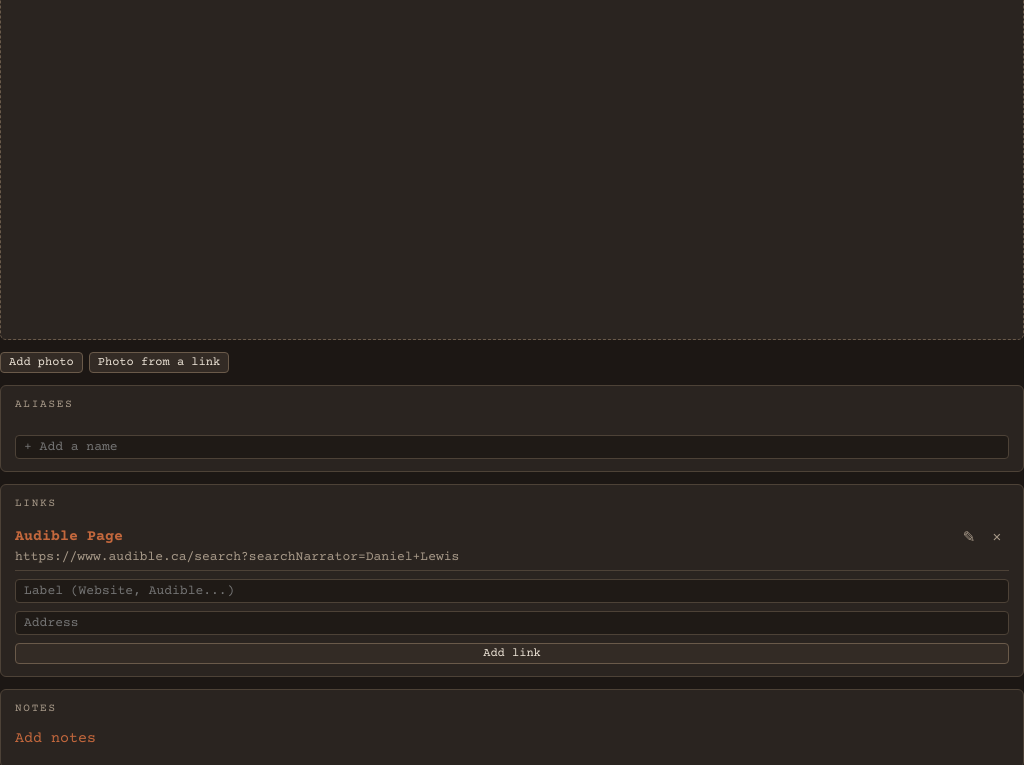
Test: links on author and narrator pages › shows why a save failed and stays open
(page scrolled)
Step 1. Click the button named "Edit Audible Page" → point(969, 536), box [957,524,981,548]
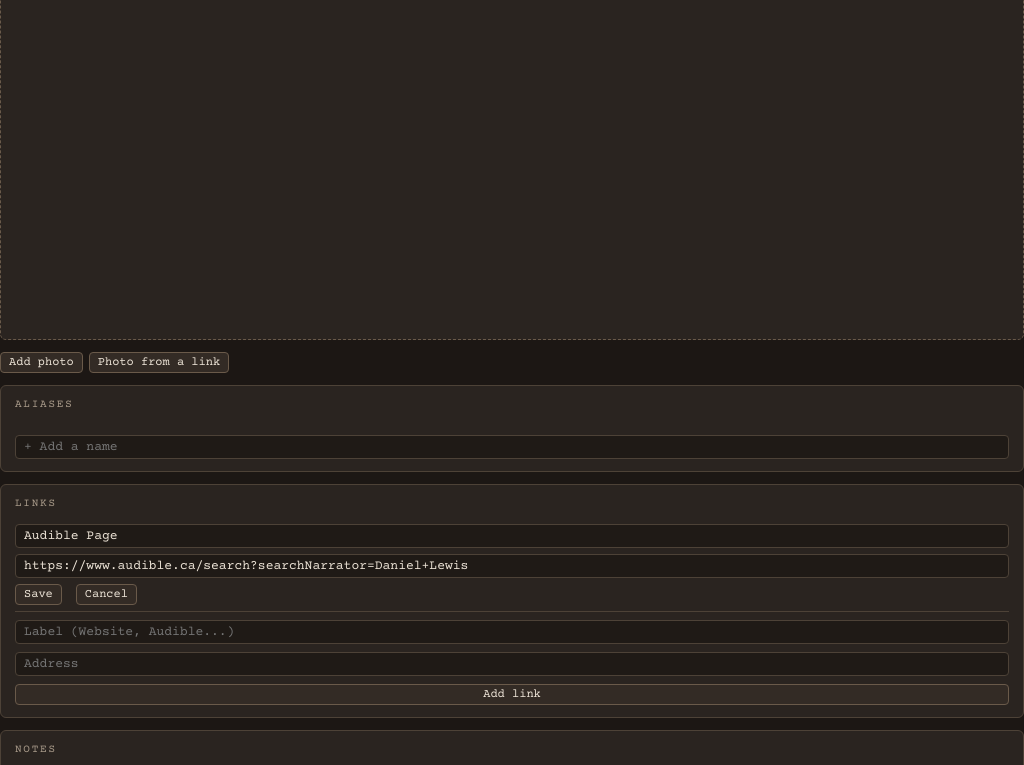
Step 2. Click the button "Save" → point(38, 594), box [15,584,62,605]
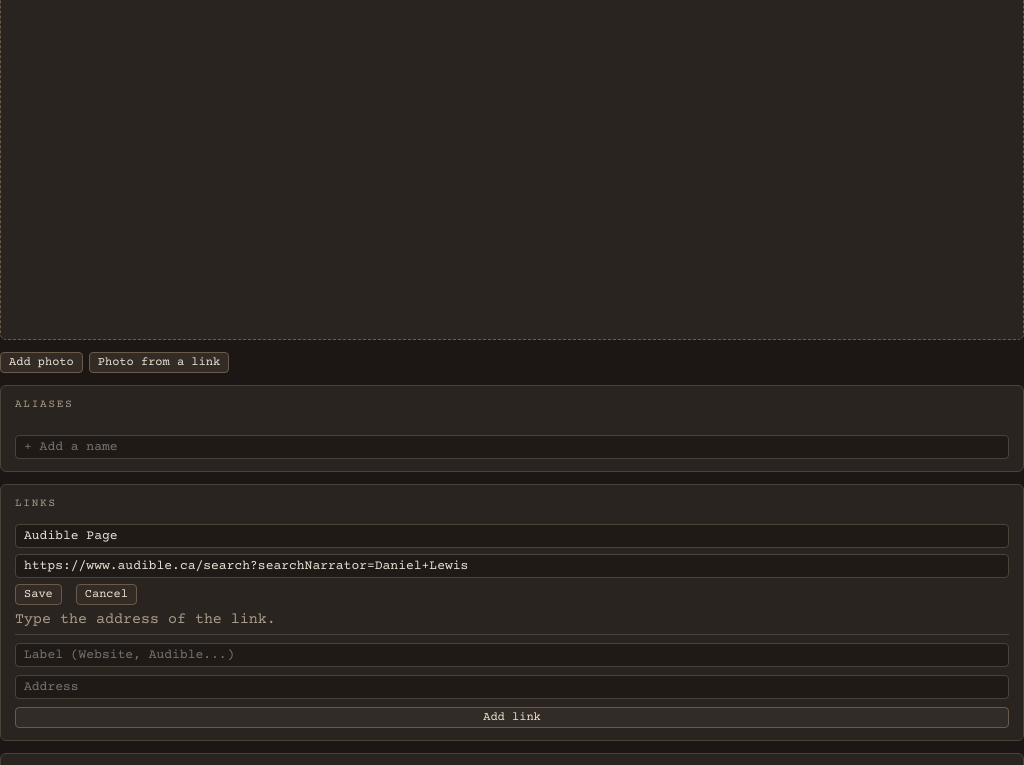
Result: the message shows "Type the address" at [15,611,276,628]
